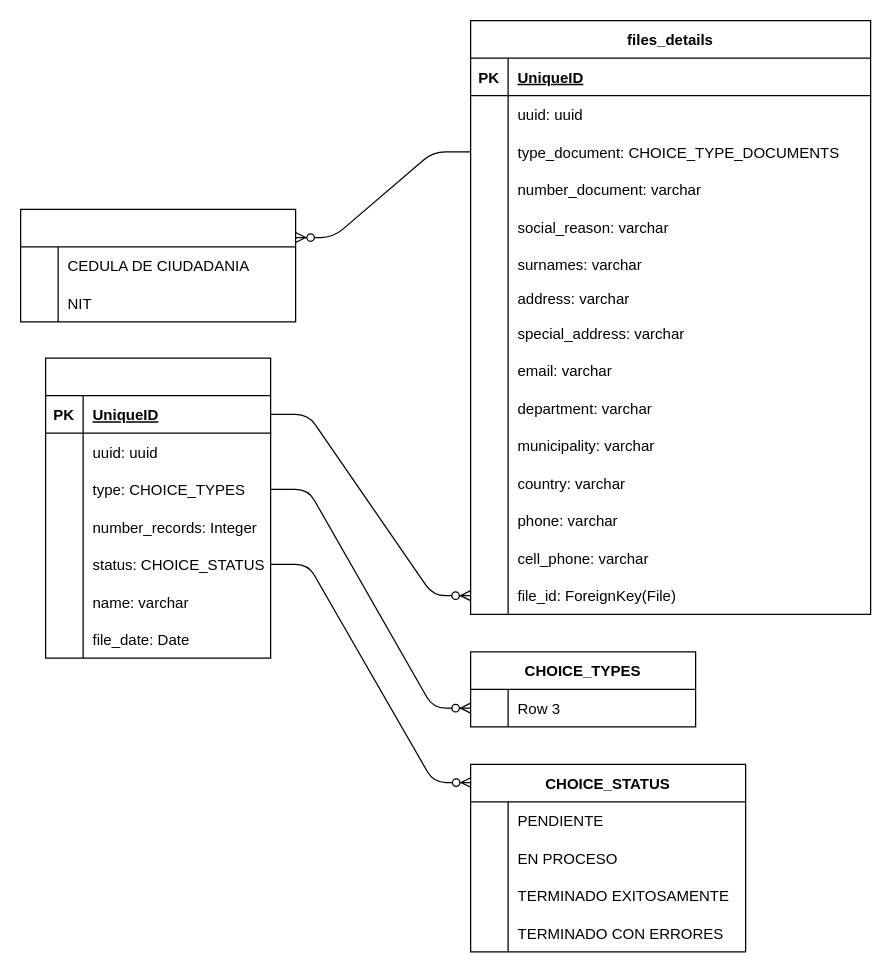
The diagram is 891 pixels wide and 973 high, and some of its shapes have lost their labels. Here are the shapes that lost their labels. From the top down, the box of each, then its label:
(19, 208, 296, 322): CHOICE_TYPE_DOCUMENTS
(44, 357, 271, 658): files
